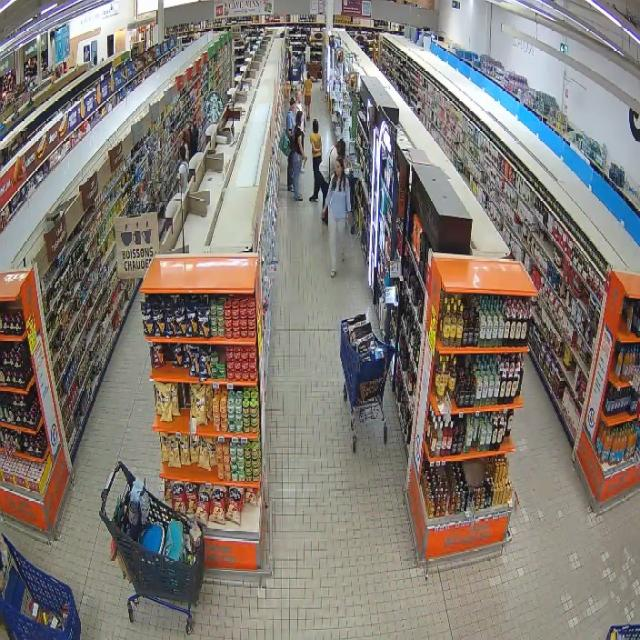article: (302, 160, 307, 169)
hands: (320, 208, 326, 222), (346, 218, 351, 226), (303, 155, 308, 160)
person: (325, 158, 350, 277), (320, 138, 345, 210), (293, 112, 305, 200), (286, 97, 297, 192), (310, 119, 321, 202), (178, 144, 189, 194), (304, 73, 312, 118), (190, 121, 199, 157)
